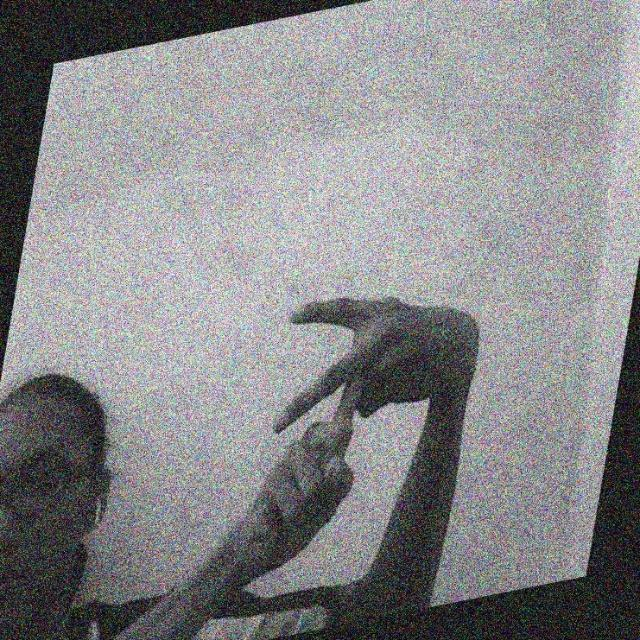F: (241, 274, 479, 564)
